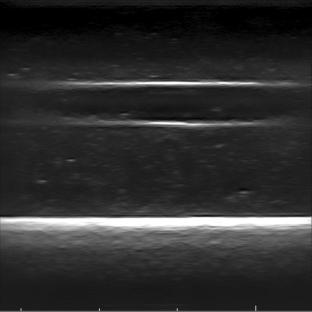vessel: (16, 80, 281, 128)
